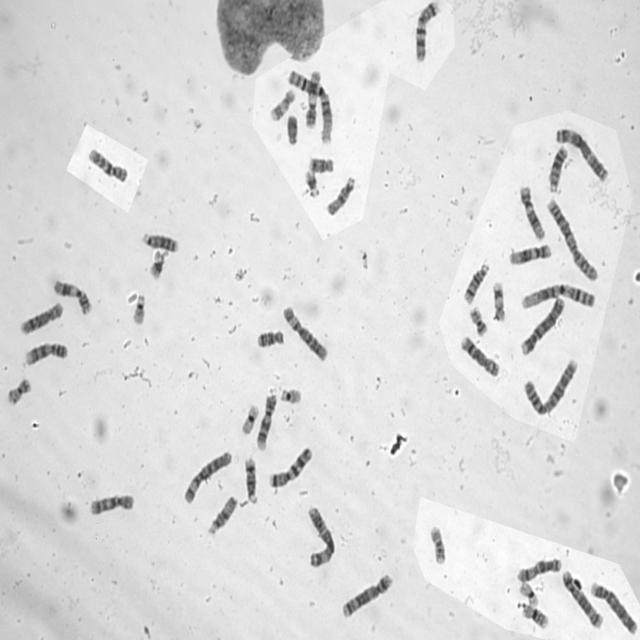A1: (286, 66, 334, 145), (520, 280, 596, 310)
A2: (544, 194, 600, 283), (520, 355, 579, 417)
A3: (552, 124, 610, 184), (304, 503, 336, 569)
B4: (518, 294, 565, 358), (588, 578, 638, 636)
B5: (561, 568, 604, 630), (339, 571, 394, 619)
C10: (86, 146, 129, 184), (88, 491, 134, 516)
C11: (51, 276, 94, 316), (304, 68, 322, 132)
C12: (517, 182, 546, 242), (506, 240, 553, 267)
C6: (181, 447, 233, 506), (280, 302, 329, 363)
C7: (266, 443, 313, 489), (412, 0, 440, 66)
C8: (458, 332, 502, 378), (18, 299, 65, 336)
C9: (255, 389, 278, 452), (23, 338, 69, 367)
D13: (546, 143, 568, 193), (140, 228, 178, 254)
D14: (461, 260, 491, 305), (242, 454, 259, 506)
D15: (205, 492, 238, 537), (325, 173, 356, 218)
E16: (520, 601, 550, 630), (428, 522, 446, 566)
E17: (268, 86, 296, 122), (490, 278, 507, 324)
E18: (254, 327, 285, 350), (307, 154, 335, 174)
F19: (239, 401, 260, 436), (518, 579, 540, 607)
F20: (5, 374, 32, 407), (468, 303, 488, 336)
G21: (148, 247, 168, 280), (302, 168, 321, 198)
G22: (130, 290, 147, 324), (278, 385, 302, 405)
X: (515, 554, 563, 583)
Y: (285, 112, 299, 146)
